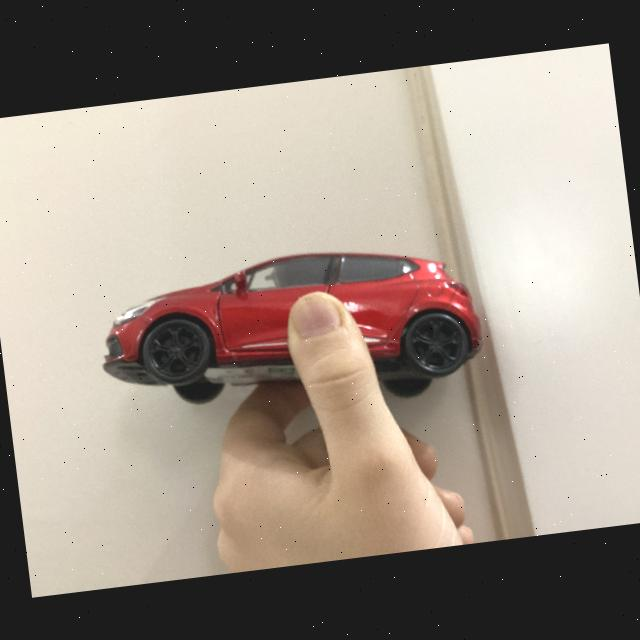Dogru_Jant: (408, 314, 466, 372), (150, 324, 202, 376)
